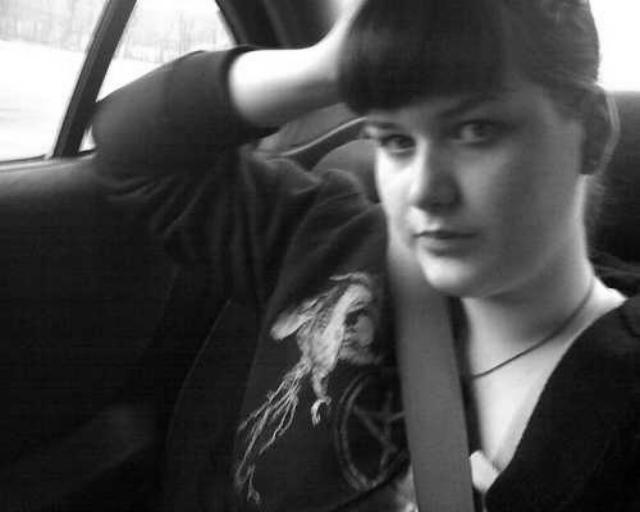SafeDriving: (439, 102, 518, 154), (358, 114, 427, 163)
Seatbelt: (380, 214, 484, 512)
